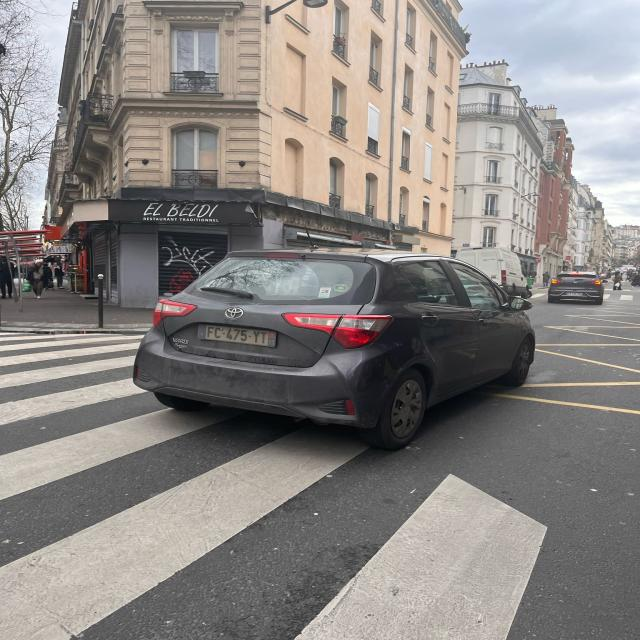EU: (193, 323, 278, 347)
France: (196, 324, 207, 339)
